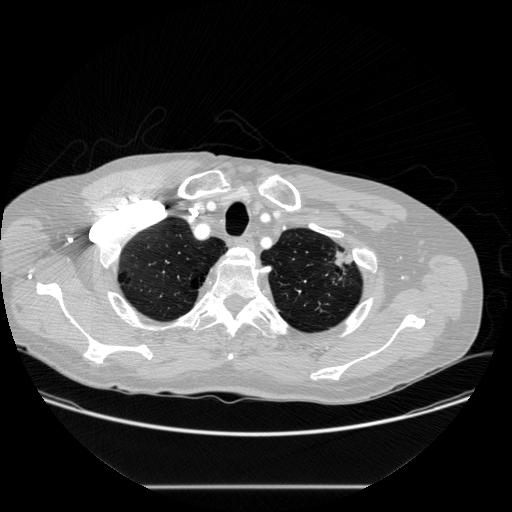nodule: (332, 250, 352, 270)
